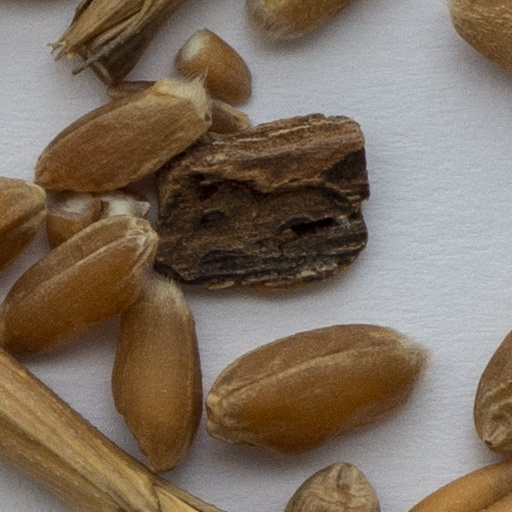Peel-poly: (157, 115, 368, 288), (0, 349, 206, 511), (52, 0, 174, 81)
Wheat-grain-damaged-poly: (169, 30, 256, 106)
